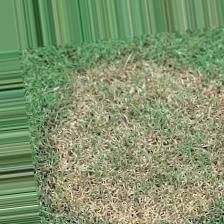patch: (67, 165, 155, 217), (58, 110, 159, 146), (185, 88, 224, 138), (175, 149, 215, 193), (81, 83, 167, 98), (65, 154, 167, 164), (165, 104, 184, 140), (157, 177, 172, 215), (177, 201, 200, 217)
